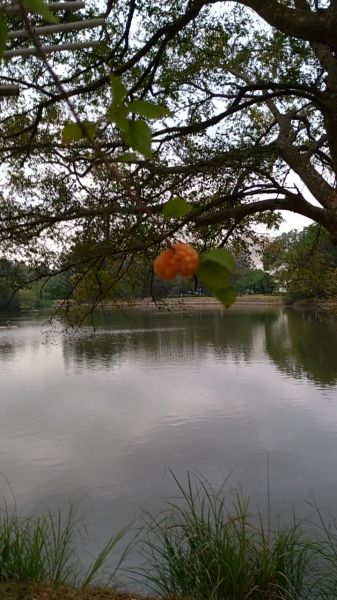eggs: (148, 234, 205, 285)
